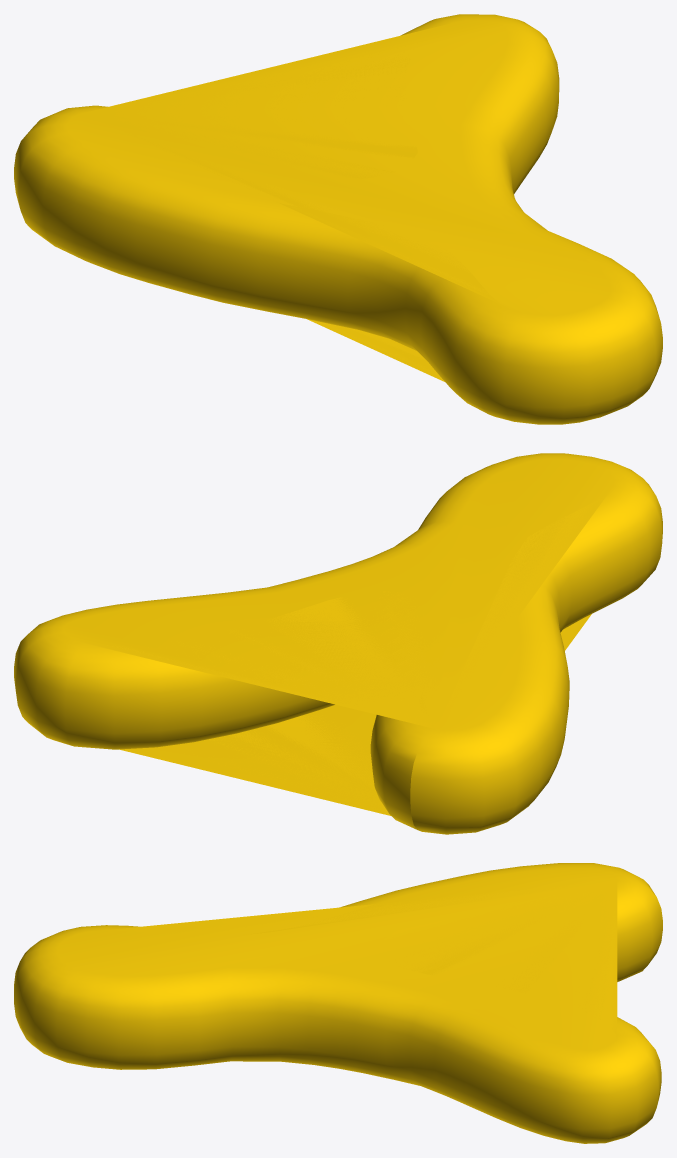
3 views of the same model, one above another, from view 1: azimuth 30°, elevation 25°; view 2: azimuth 150°, elevation 25°; view 3: azimuth 270°, elevation 25° (orthographic). The views are drawn at different scales.
Visible parts, largest first — view 1: Curve.026; view 2: Curve.026; view 3: Curve.026.
Part boxes in pixels (x1,y1,x2,y2): Curve.026: [14, 14, 662, 424]; Curve.026: [14, 453, 662, 834]; Curve.026: [14, 863, 662, 1143].
Size of the model in its own units: 264 by 49.54 by 330.
Materials: 1 (1 with a texture image).
